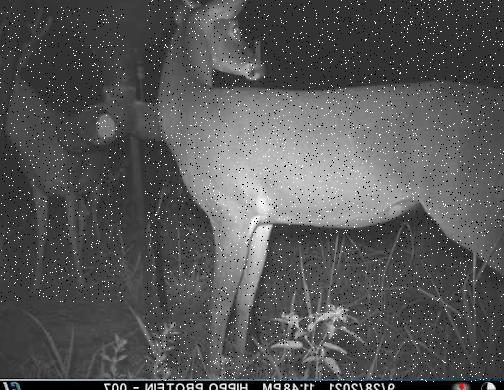Deer: (145, 0, 504, 382), (0, 6, 125, 302)
